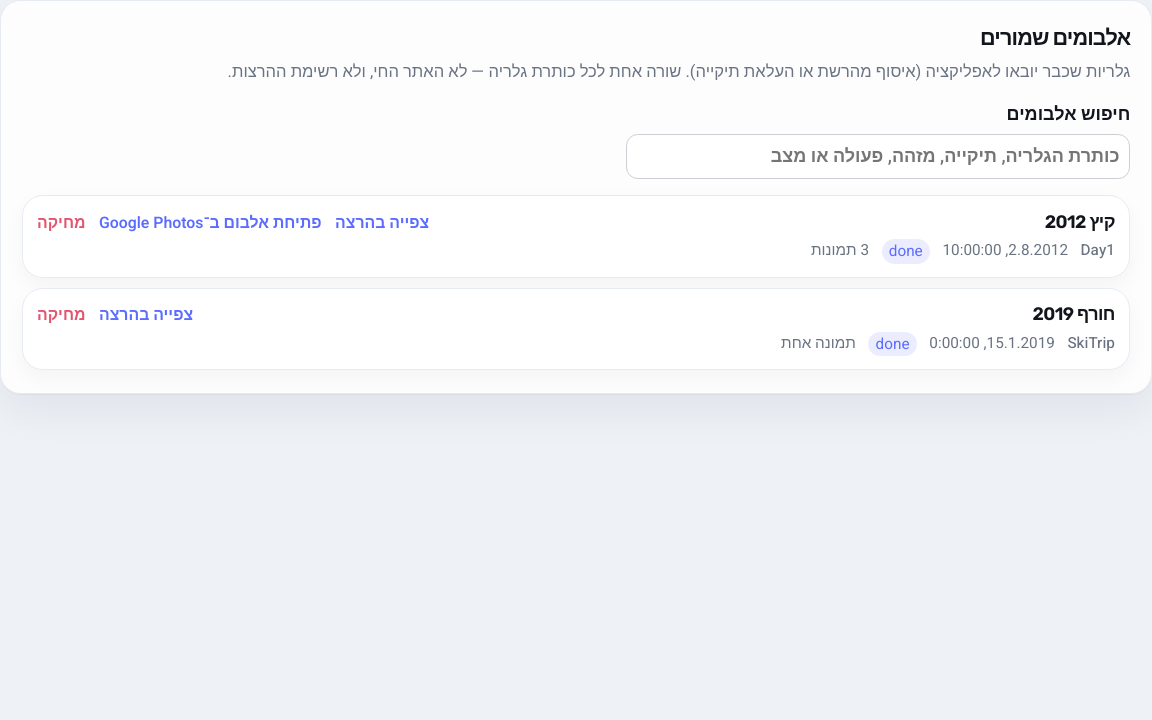
Test: AlbumLibrary › keeps the row when delete confirm is cancelled
Expected: the text "קיץ 2012" is shown, [1045,211,1115,233]
Click the button "מחיקה" next to "פתיחת אלבום ב־Google Photos".
click(61, 224)  # box [37,212,86,236]
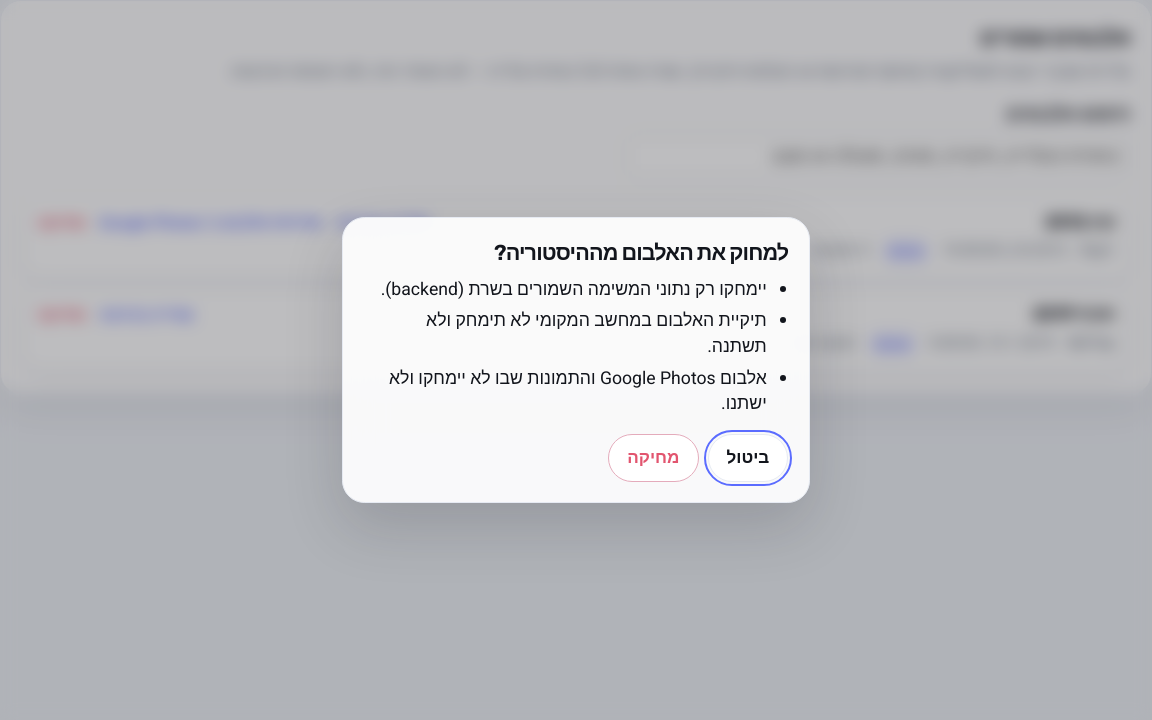
Now the dialog "למחוק את האלבום מההיסטוריה?" is shown
Now the dialog "למחוק את האלבום מההיסטוריה?" shows "יימחקו רק נתוני המשימה השמורים בשרת (backend).", box [381,277,767,302]
Now the dialog "למחוק את האלבום מההיסטוריה?" shows "תיקיית האלבום במחשב המקומי לא תימחק ולא תשתנה.", box [426,308,767,359]
Click the button "ביטול".
click(748, 458)  # box [708,434,788,482]
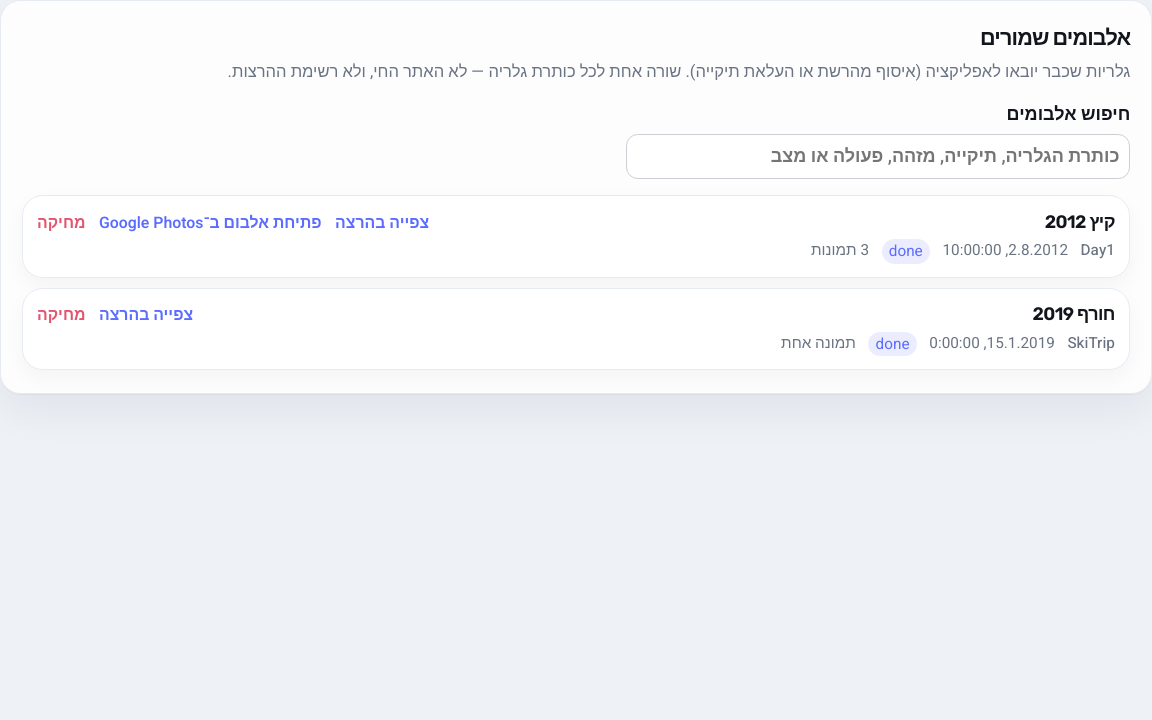
Expected: the text "קיץ 2012" is shown, [1045,211,1115,233]
Now the heading "למחוק את האלבום מההיסטוריה?" is gone
